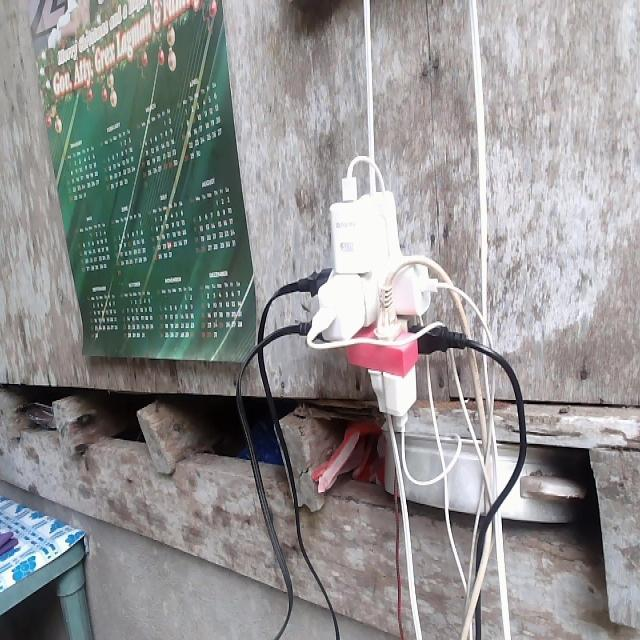-: (300, 179, 451, 429)
